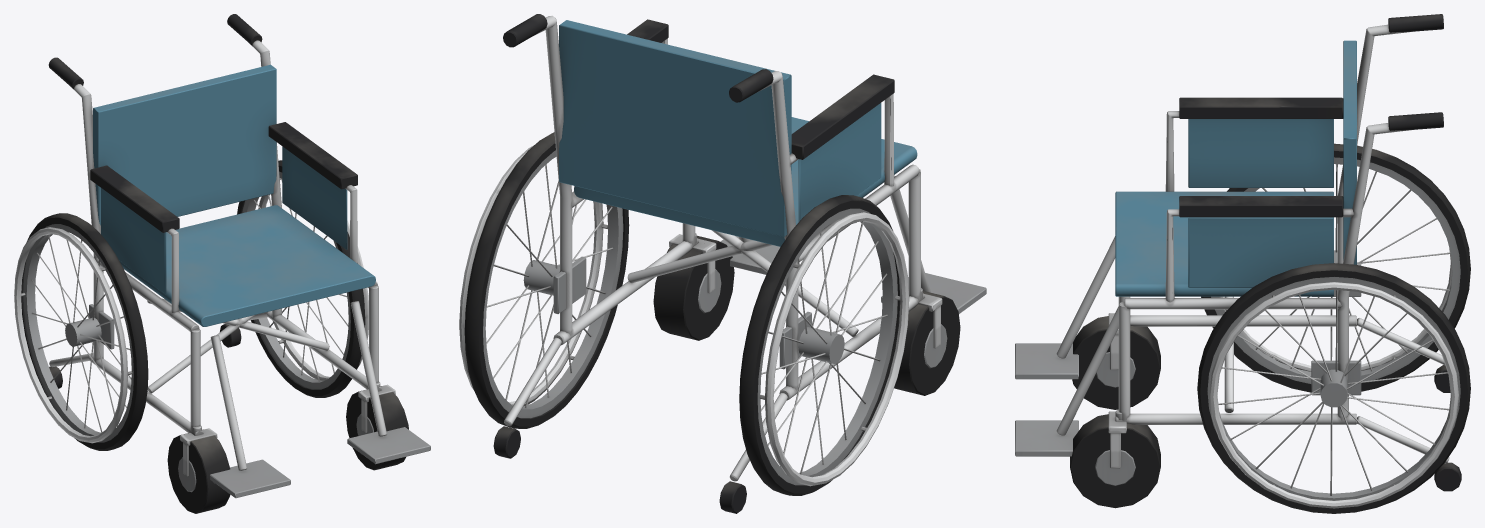
File: Wheelchair.fbx
The picture shows the model from 3 angles, left to right: view 1: azimuth 30°, elevation 25°; view 2: azimuth 150°, elevation 25°; view 3: azimuth 270°, elevation 25°; orthographic projection. The views are drawn at different scales.
Parts seen in each view (by area): view 1: Body_LOD0, Wheel_L_LOD0, Wheel_R_LOD0; view 2: Body_LOD0, Wheel_L_LOD0, Wheel_R_LOD0; view 3: Body_LOD0, Wheel_R_LOD0, Wheel_L_LOD0.
Part boxes in pixels (box(x1,y1,x2,y2)): Body_LOD0: box(48, 14, 430, 513); Wheel_L_LOD0: box(14, 213, 148, 450); Wheel_R_LOD0: box(237, 160, 368, 397); Body_LOD0: box(493, 14, 986, 513); Wheel_L_LOD0: box(739, 195, 909, 495); Wheel_R_LOD0: box(459, 132, 629, 428); Body_LOD0: box(1015, 14, 1461, 508); Wheel_R_LOD0: box(1197, 263, 1470, 513); Wheel_L_LOD0: box(1201, 143, 1470, 392).
Size of what is drawn, in the model's own units: 0.708 by 0.9418 by 1.
1 material, 1 textured.
